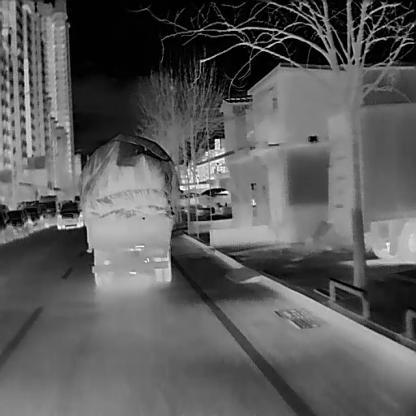car: (74, 125, 181, 289), (328, 100, 416, 262), (267, 141, 328, 255), (198, 186, 231, 210), (56, 200, 83, 228), (8, 209, 29, 237), (24, 203, 44, 232), (0, 204, 13, 243), (39, 201, 58, 225), (180, 190, 200, 207)
